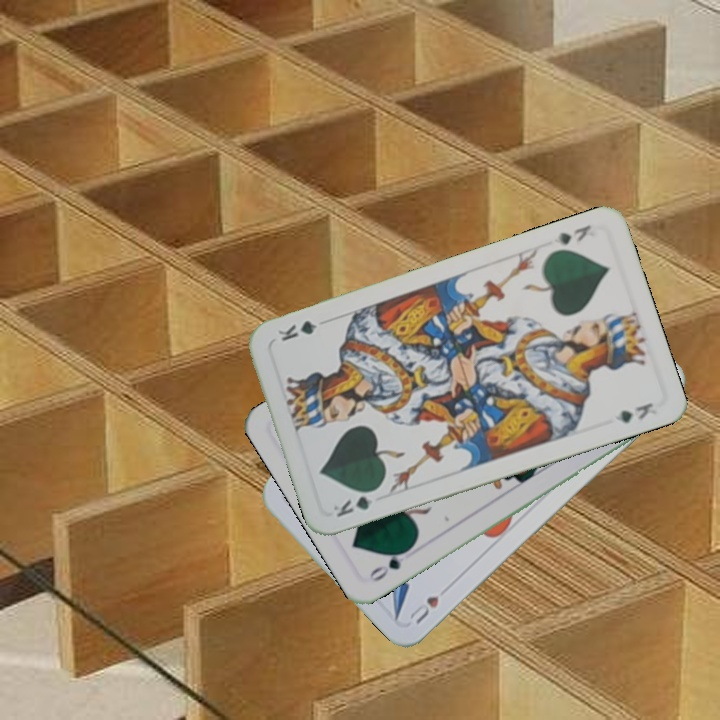GK: (329, 484, 382, 520), (553, 220, 594, 248)
GO: (365, 543, 415, 585)
HU: (405, 591, 442, 627)
